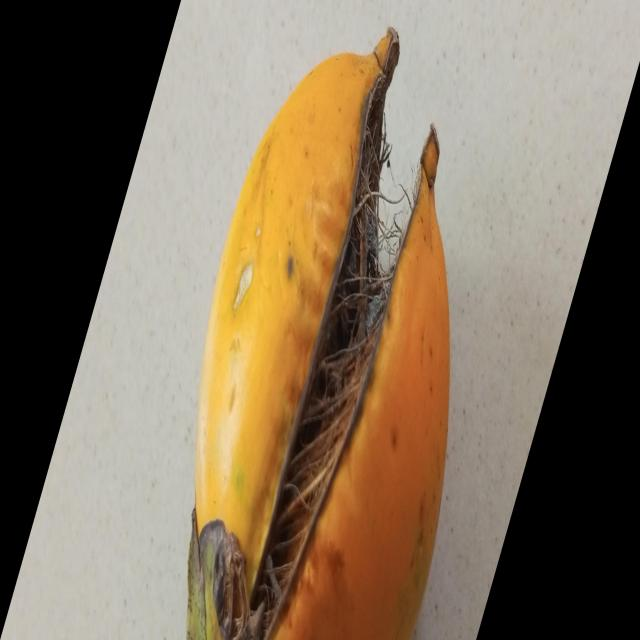damaged: (186, 29, 450, 640)
